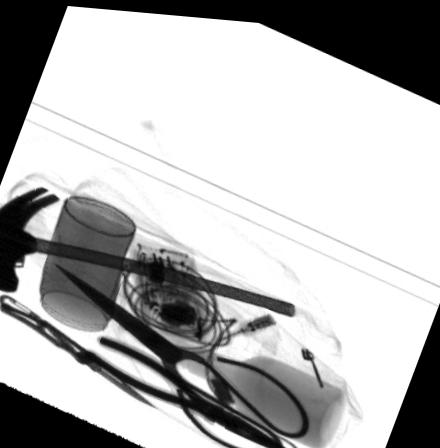Hammer: (0, 185, 296, 314)
Knife: (0, 292, 159, 405)
Pliers: (81, 332, 295, 448)
Scissors: (52, 263, 310, 448)
